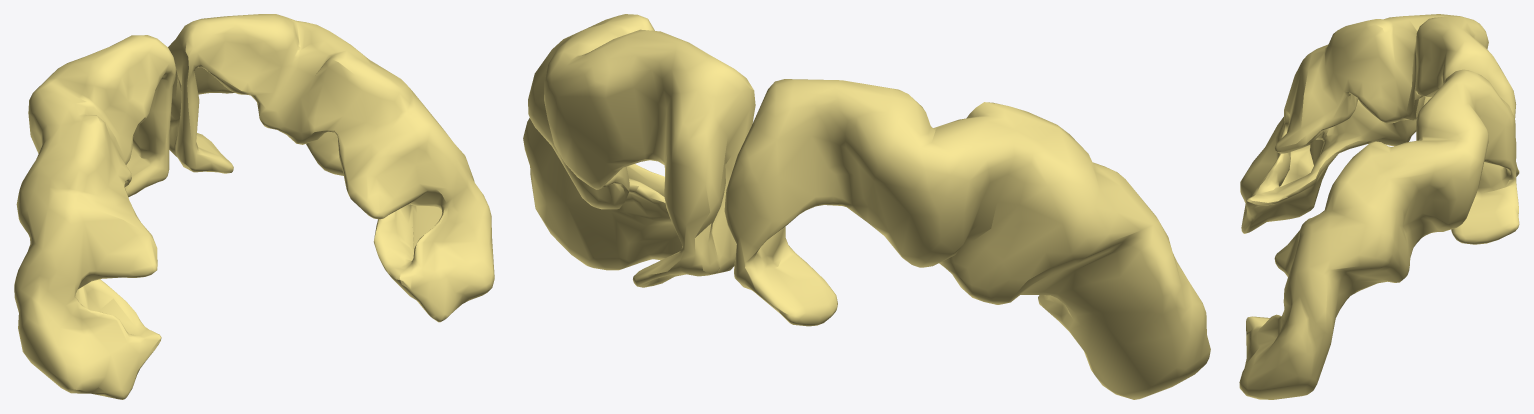
The model's file is giro-pre-central.glb.
3 views of the same model, side by side, from view 1: azimuth 30°, elevation 25°; view 2: azimuth 150°, elevation 25°; view 3: azimuth 270°, elevation 25° (orthographic). The views are drawn at different scales.
Parts seen in each view (by area): view 1: giro-pre-central; view 2: giro-pre-central; view 3: giro-pre-central.
Part boxes in pixels (x1=…): giro-pre-central: x1=14, y1=14, x2=494, y2=399; giro-pre-central: x1=523, y1=14, x2=1210, y2=399; giro-pre-central: x1=1239, y1=14, x2=1519, y2=399.
Size of the model in its own units: 0.127 by 0.0661 by 0.0655.
